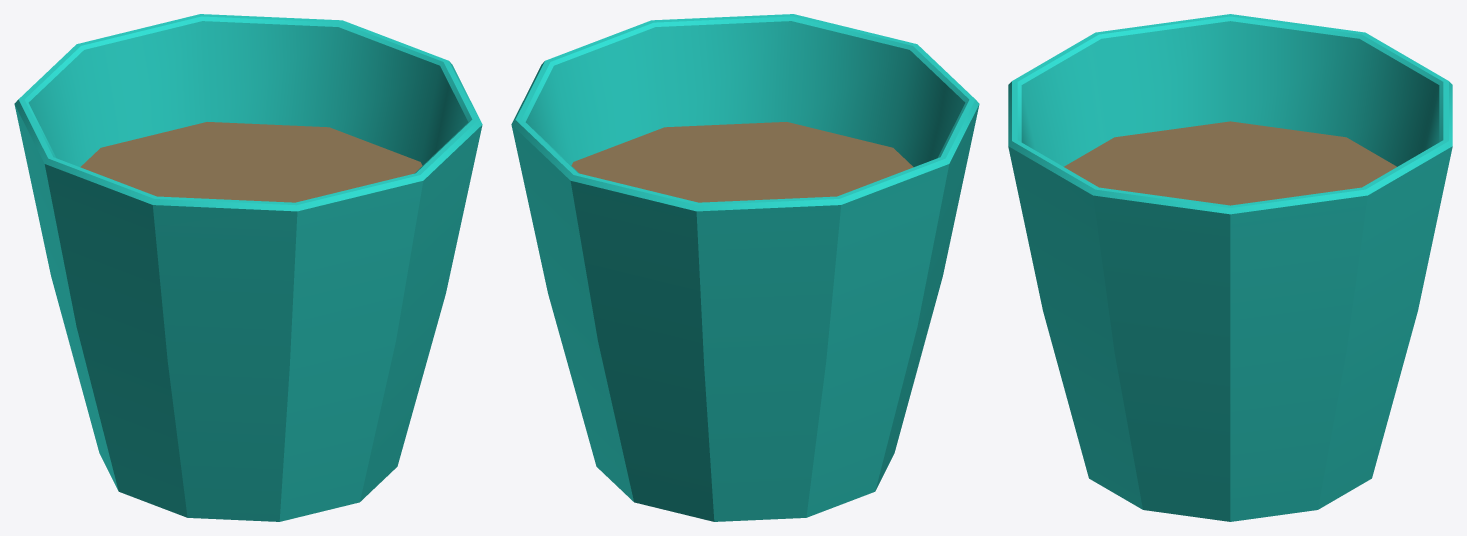
The model's file is potbleu.FBX.
3 renders of one model, left to right at view 1: azimuth 30°, elevation 25°; view 2: azimuth 150°, elevation 25°; view 3: azimuth 270°, elevation 25°, orthographic.
Visible parts, largest first — view 1: Cylinder001; view 2: Cylinder001; view 3: Cylinder001.
Boxes of the visible parts, left/top/right/bottom form: Cylinder001: left=14, top=14, right=482, bottom=521; Cylinder001: left=511, top=14, right=979, bottom=521; Cylinder001: left=1008, top=14, right=1452, bottom=521.
Size of the model in its own units: 34.24 by 28.12 by 32.56.
